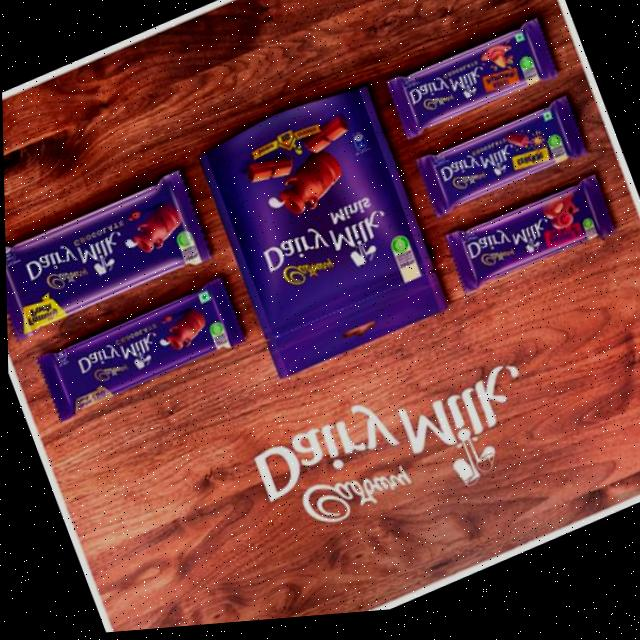cadbury: (195, 84, 446, 385), (3, 181, 200, 328), (46, 290, 232, 414), (422, 110, 577, 214), (454, 193, 606, 291), (285, 447, 425, 545), (403, 35, 544, 130)
